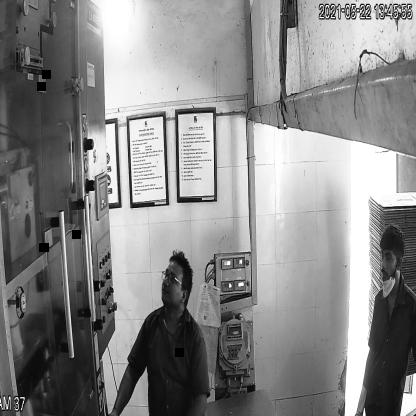goggles: (158, 265, 187, 290)
no_goggles: (376, 250, 400, 268)
